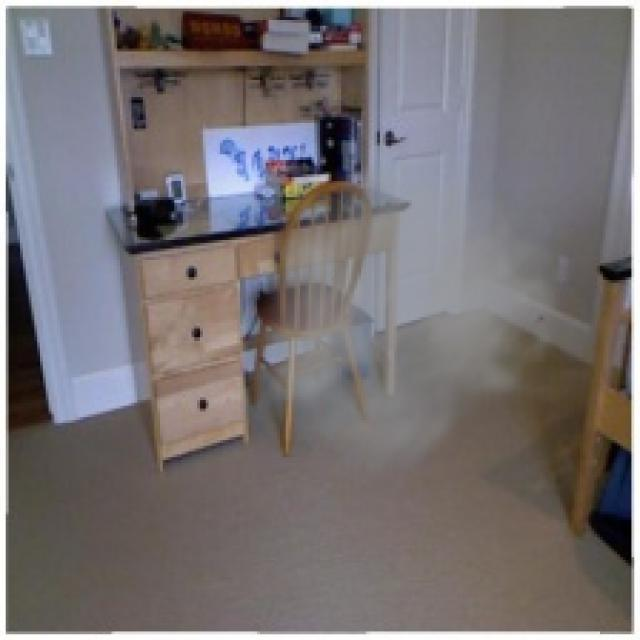Smoke: (242, 126, 598, 492)
